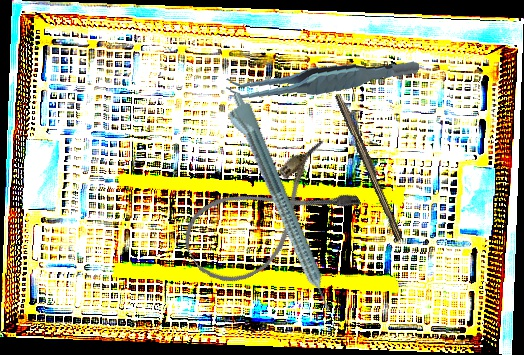Cannula: (172, 136, 365, 298)
Handpiece: (219, 89, 337, 319)
Scalpel Handle: (332, 92, 408, 242)
Tissue Forceps: (224, 42, 420, 116)
